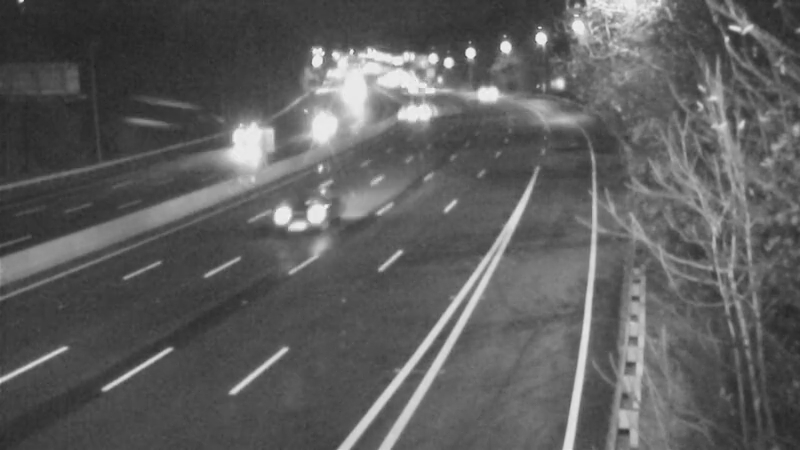vehicle: (256, 177, 336, 257), (395, 68, 445, 118), (461, 72, 511, 122), (394, 89, 444, 139), (222, 113, 272, 163), (298, 107, 348, 157)
